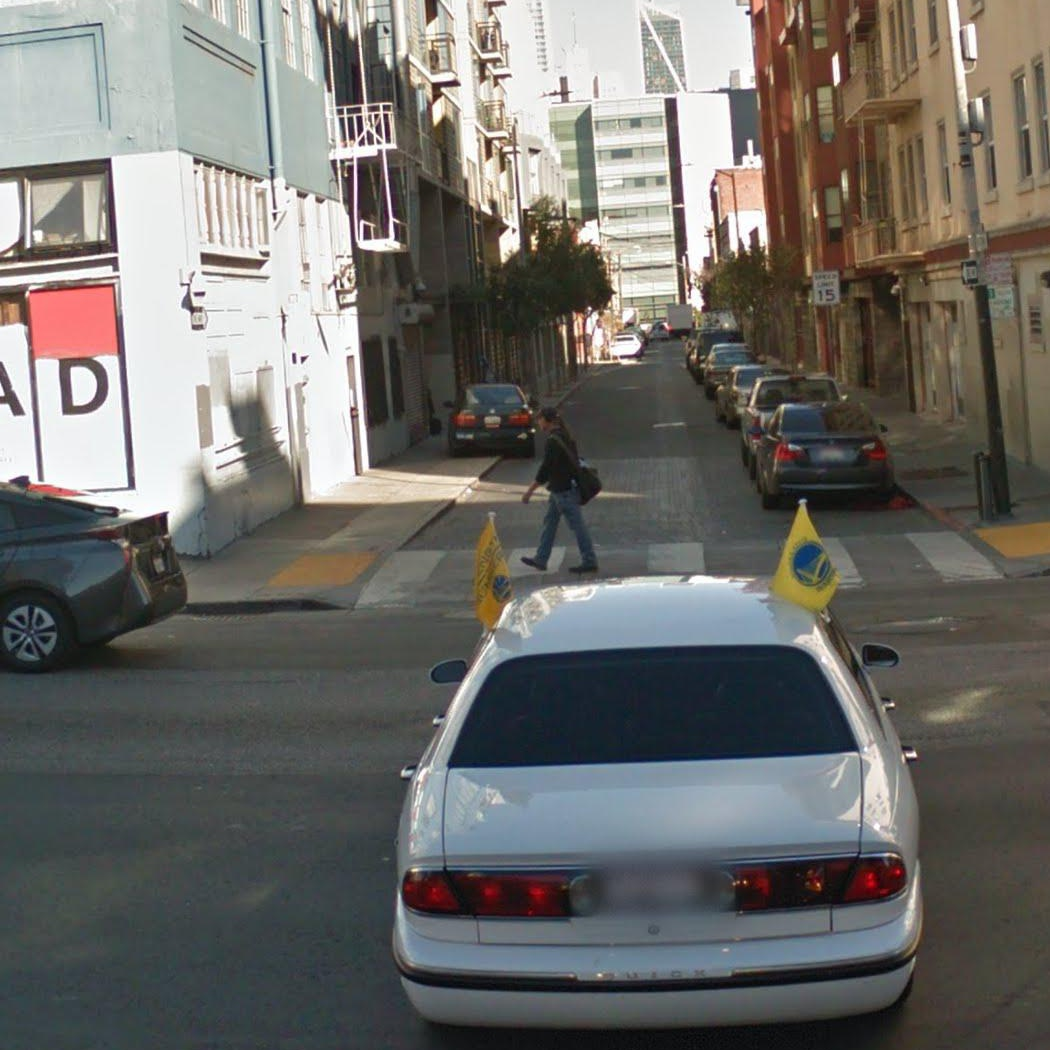1 Hour Parking: (985, 283, 1017, 320)
No Parking: (983, 251, 1015, 286)
